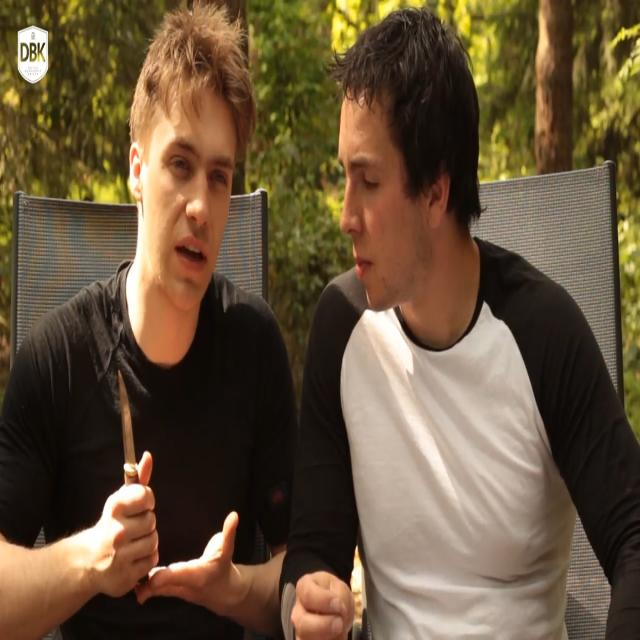knife: (116, 369, 140, 489)
